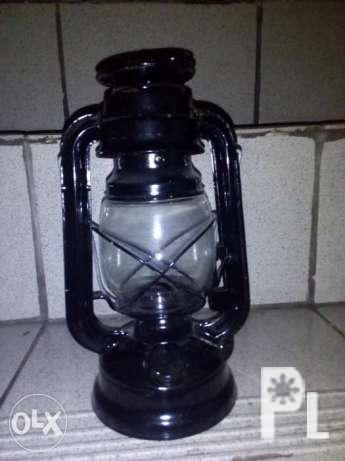Open-Flame-Hazard: (55, 44, 255, 456)
